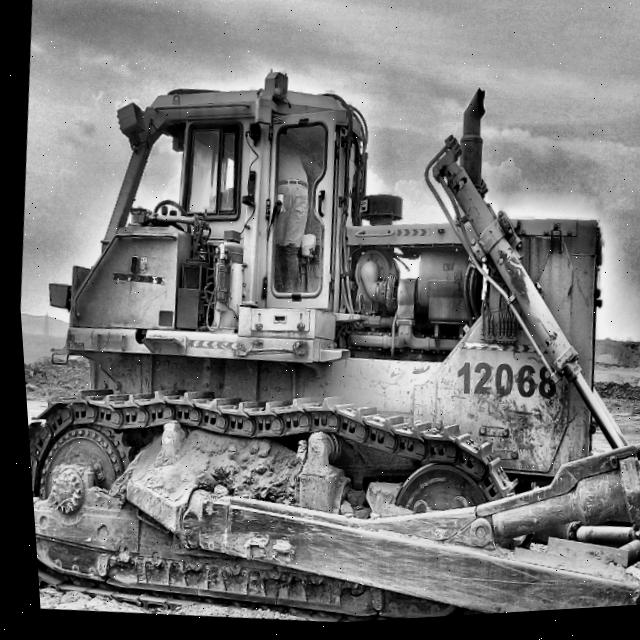buldozerpayloadergrader: (22, 81, 640, 625)
